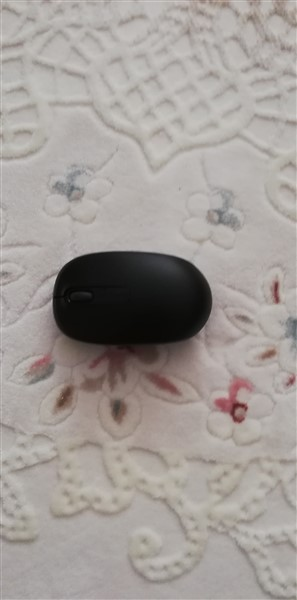mouse: (50, 249, 217, 346)
